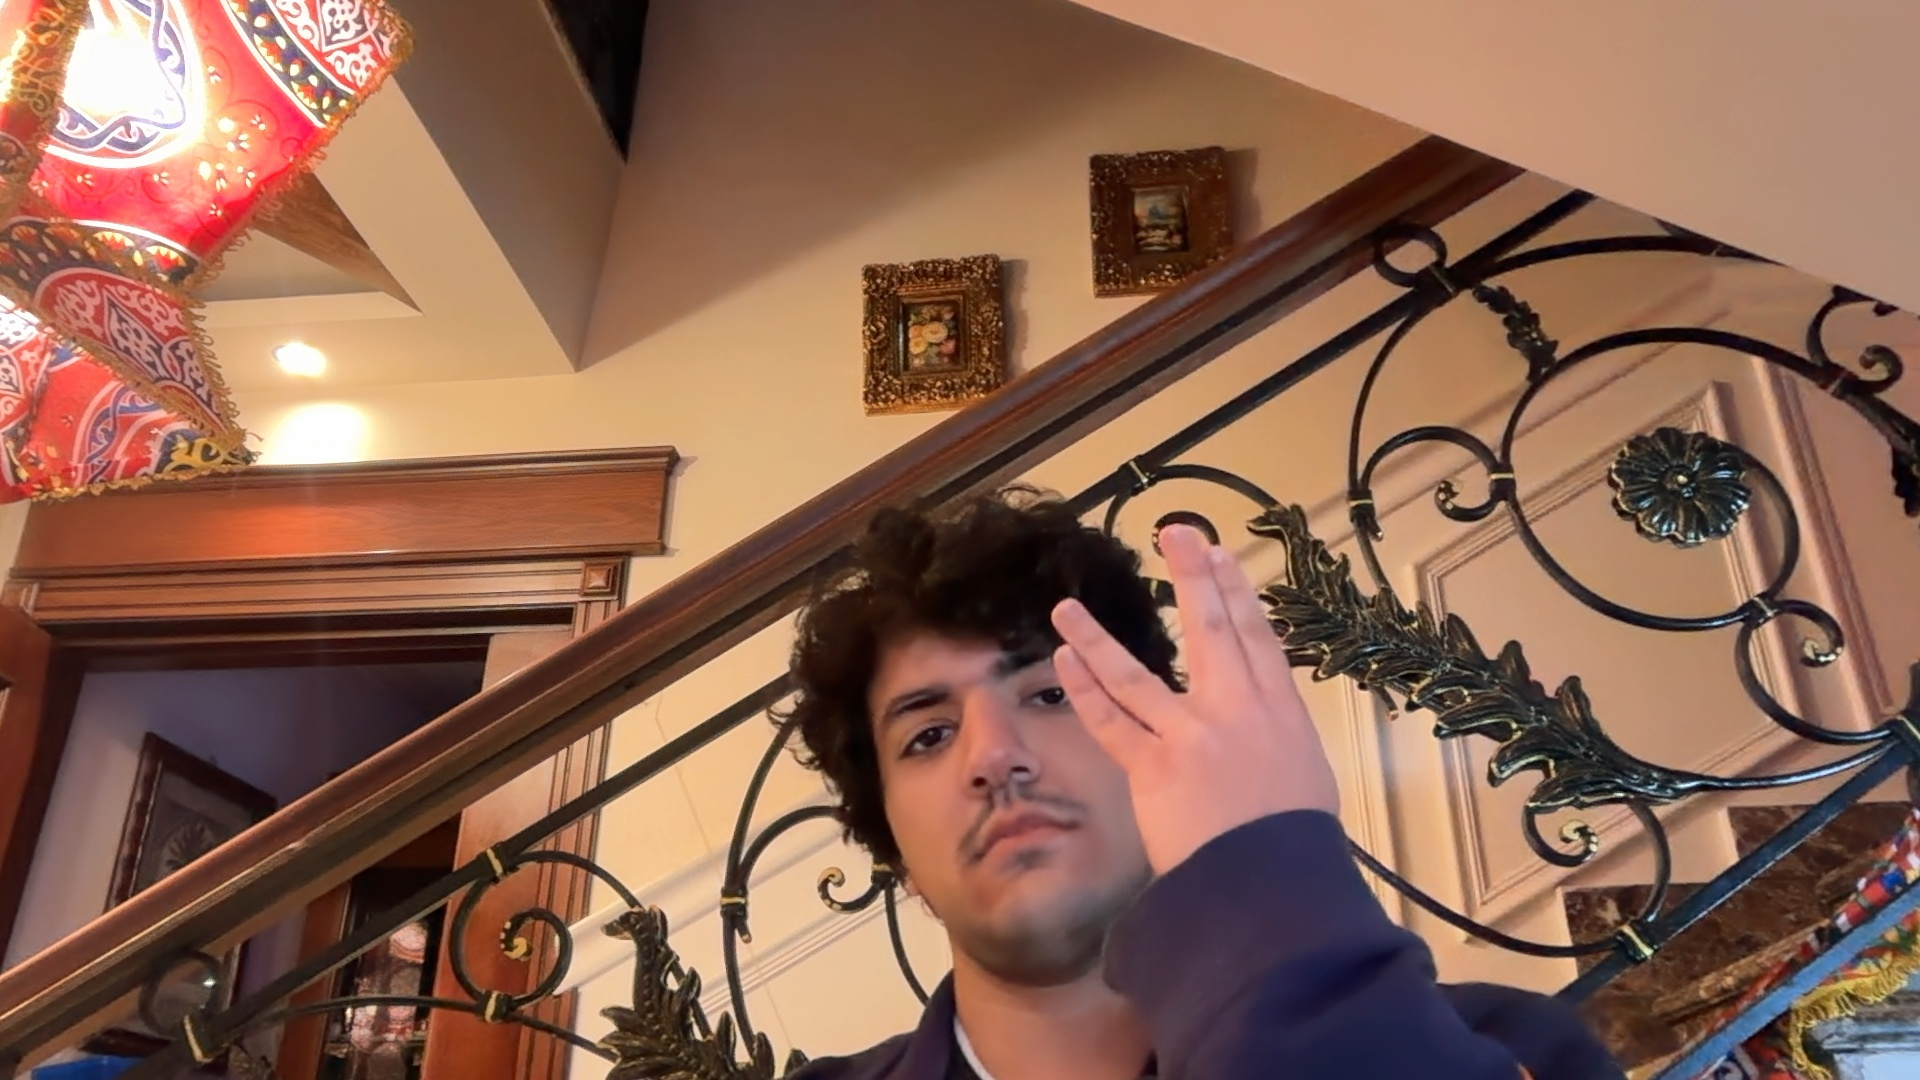LiveLong: (1054, 521, 1344, 876)
